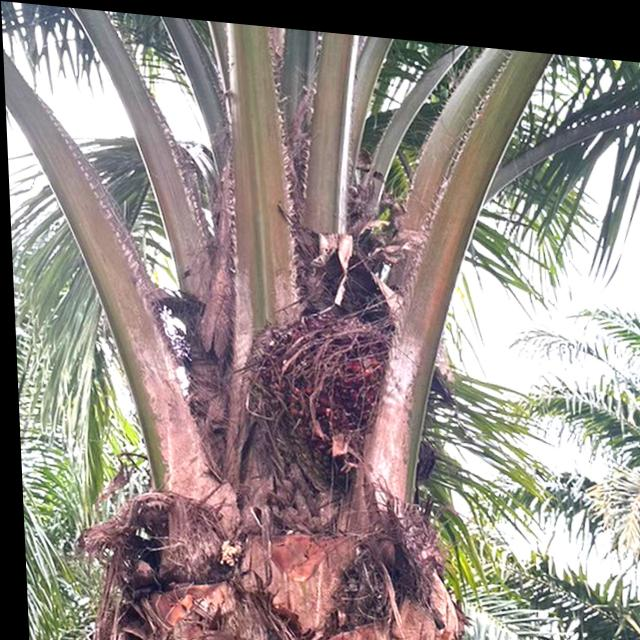ripe: (250, 295, 387, 449)
